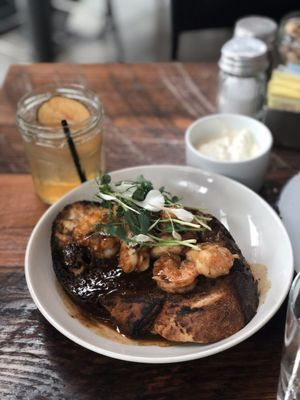pizza: (15, 78, 106, 206)
sushi: (29, 164, 296, 393), (184, 112, 274, 192)
